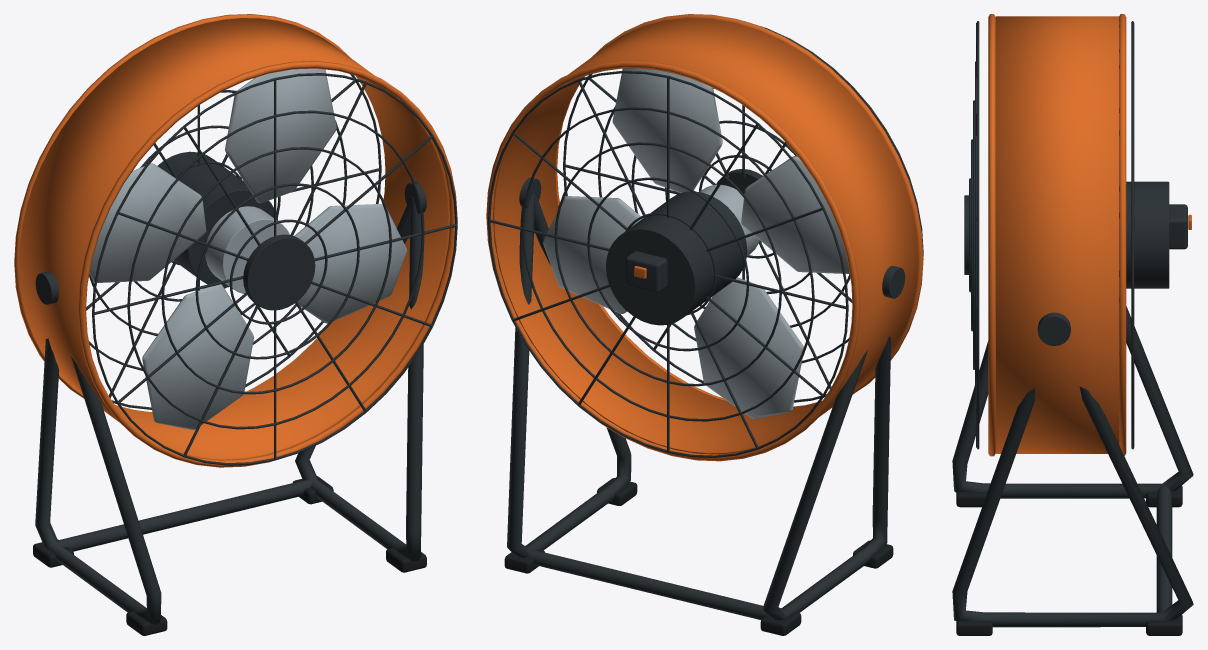
File: S079_large_wind_fan_photo.glb
3 renders of one model, left to right at view 1: azimuth 30°, elevation 25°; view 2: azimuth 150°, elevation 25°; view 3: azimuth 270°, elevation 25°, orthographic. The views are drawn at different scales.
Visible parts, largest first — view 1: Fan_orange_powder_coat, Fan_dark_steel_stand_and_guard, Fan_aluminum_impeller, Fan_rubber_feet; view 2: Fan_orange_powder_coat, Fan_dark_steel_stand_and_guard, Fan_aluminum_impeller, Fan_rubber_feet; view 3: Fan_orange_powder_coat, Fan_dark_steel_stand_and_guard, Fan_rubber_feet.
Part boxes in pixels (x1,y1,x2,y2): Fan_orange_powder_coat: (14,14,457,467); Fan_dark_steel_stand_and_guard: (35,73,457,624); Fan_aluminum_impeller: (89,68,407,429); Fan_rubber_feet: (33,476,426,635); Fan_orange_powder_coat: (486,14,923,461); Fan_dark_steel_stand_and_guard: (488,21,923,620); Fan_aluminum_impeller: (543,68,849,418); Fan_rubber_feet: (504,478,893,635); Fan_orange_powder_coat: (988,14,1191,456); Fan_dark_steel_stand_and_guard: (952,21,1193,627); Fan_rubber_feet: (956,486,1182,635).
Size of the model in its own units: 0.935 by 1.21 by 0.4955.
